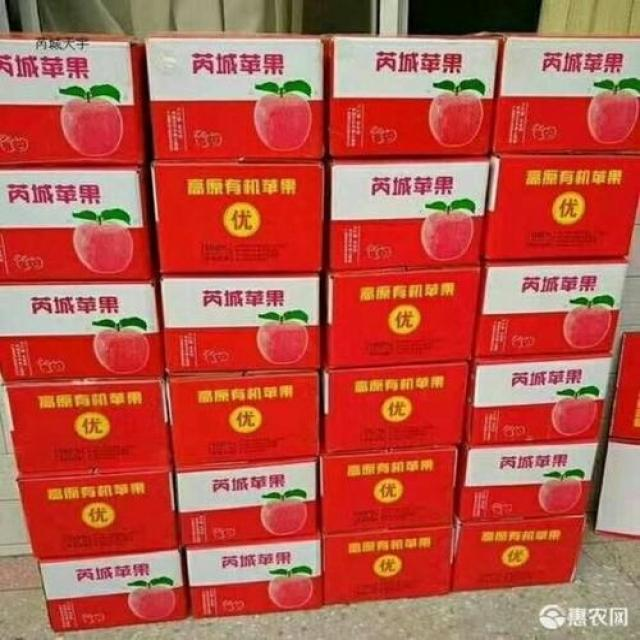box: (145, 35, 325, 160), (326, 34, 499, 158), (479, 31, 640, 156), (0, 31, 147, 164), (152, 164, 323, 272), (329, 158, 493, 269), (0, 170, 154, 283), (484, 156, 640, 260), (0, 283, 165, 381), (3, 381, 169, 478), (328, 268, 481, 368), (474, 261, 631, 358), (164, 278, 319, 373), (168, 372, 319, 468), (18, 472, 177, 558), (466, 355, 613, 445), (325, 363, 467, 451), (38, 549, 188, 632), (177, 460, 320, 547), (321, 448, 460, 532), (186, 539, 323, 617), (460, 445, 599, 521), (324, 526, 454, 604), (454, 518, 588, 592), (595, 332, 639, 537)
